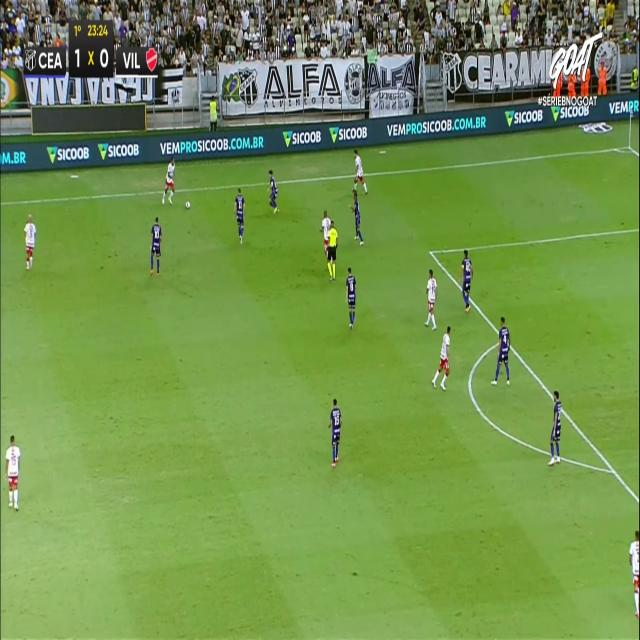ball: (185, 200, 190, 209)
player: (490, 316, 510, 386), (431, 324, 450, 389), (5, 434, 20, 509), (548, 389, 561, 464), (629, 530, 640, 615), (329, 398, 342, 468), (351, 187, 365, 248), (459, 249, 472, 314), (424, 269, 437, 330), (345, 266, 357, 328), (352, 149, 368, 195), (150, 215, 162, 274), (24, 212, 36, 269), (162, 158, 176, 204), (234, 186, 245, 244), (319, 209, 331, 255), (267, 169, 278, 213)
referee: (325, 220, 338, 281)
